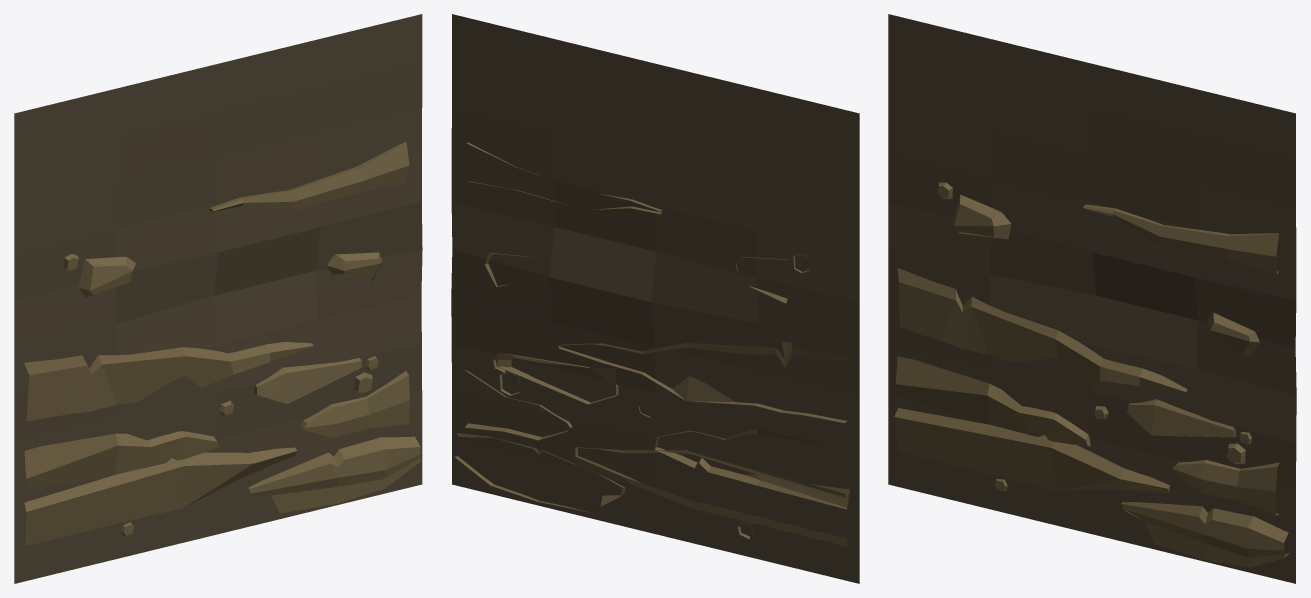
File: Basement_Wall_Var1.glb
The picture shows the model from 3 angles, left to right: view 1: azimuth 30°, elevation 25°; view 2: azimuth 150°, elevation 25°; view 3: azimuth 330°, elevation 25°; orthographic projection.
Visible parts, largest first — view 1: Basement_Wall_Var1.001; view 2: Basement_Wall_Var1.001; view 3: Basement_Wall_Var1.001.
Part boxes in pixels (x1,y1,x2,y2): Basement_Wall_Var1.001: (14, 14, 422, 583); Basement_Wall_Var1.001: (451, 14, 859, 583); Basement_Wall_Var1.001: (888, 14, 1296, 583).
Size of the model in its own units: 4 by 4.41 by 0.1796.
Materials: 2 (2 with a texture image).
